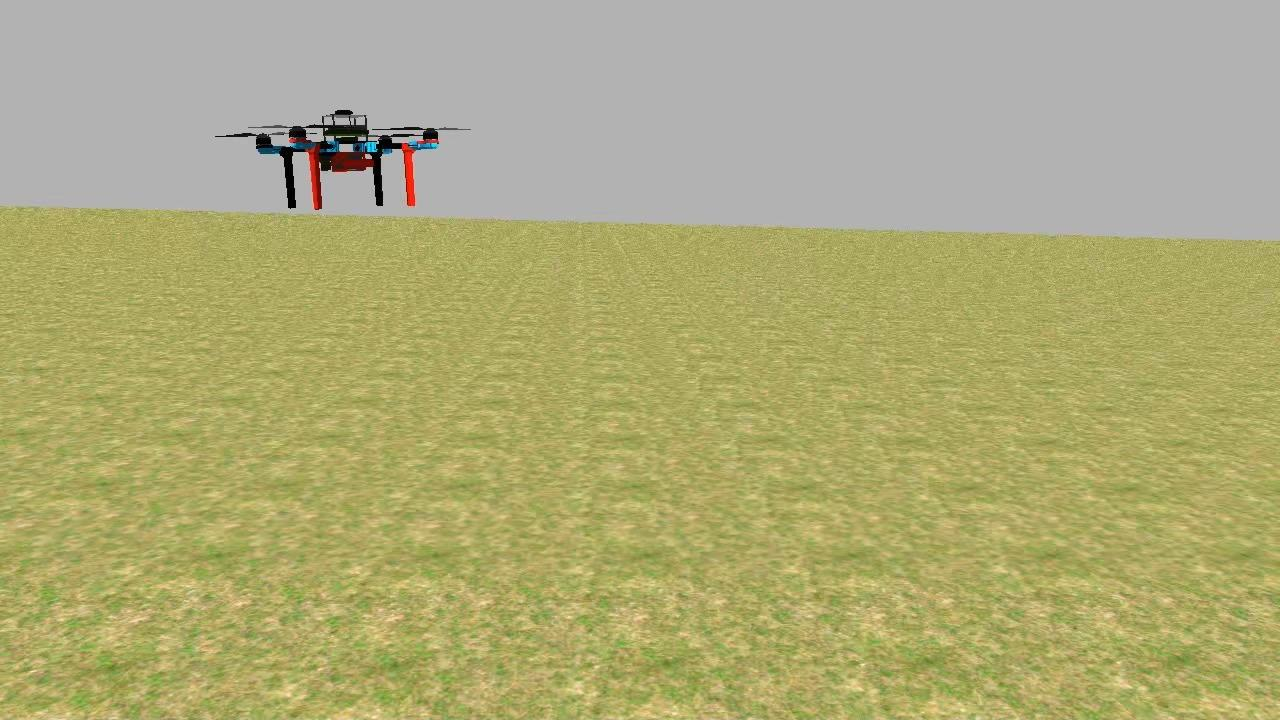UAV: (250, 102, 450, 216)
